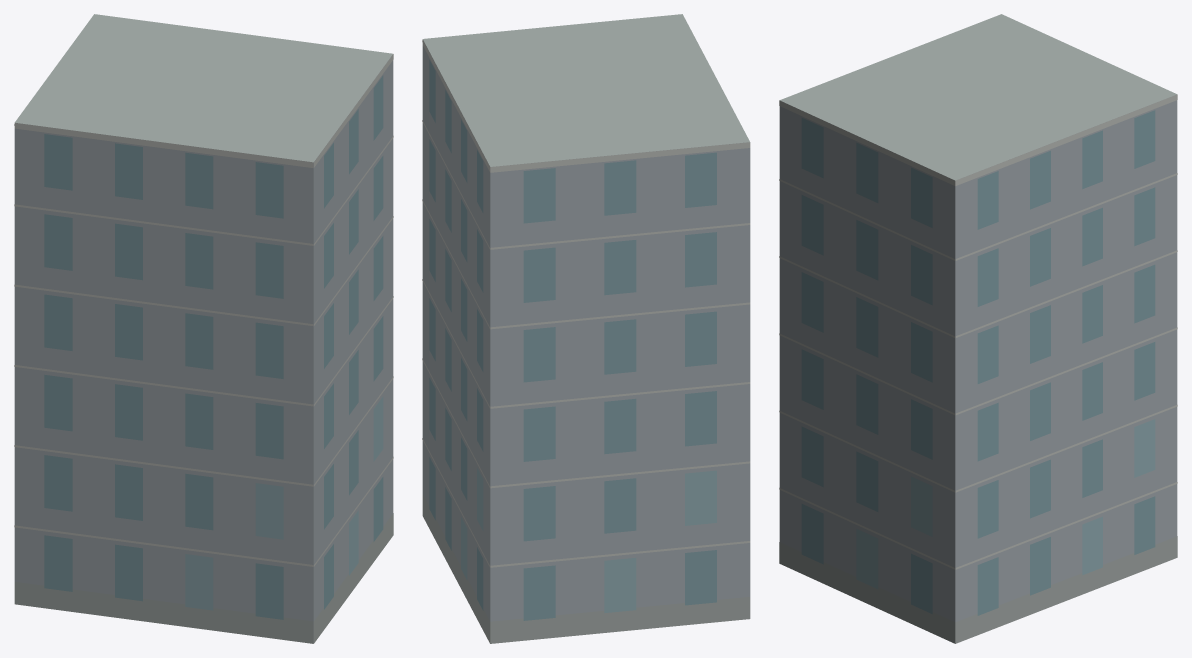
File: survey-upis-32519268.glb
3 views of the same model, side by side, from view 1: azimuth 30°, elevation 25°; view 2: azimuth 150°, elevation 25°; view 3: azimuth 270°, elevation 25° (orthographic). The views are drawn at different scales.
Visible parts, largest first — view 1: survey-upis-32519268.tmp; view 2: survey-upis-32519268.tmp; view 3: survey-upis-32519268.tmp.
Part boxes in pixels (x1,y1,x2,y2): survey-upis-32519268.tmp: (14,14,393,643); survey-upis-32519268.tmp: (422,14,750,643); survey-upis-32519268.tmp: (779,14,1177,643).
Size of the model in its own units: 15.44 by 20 by 15.59.
